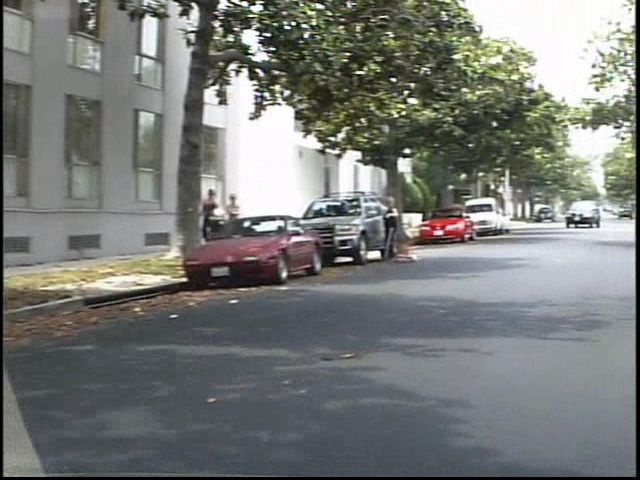person: (394, 193, 424, 269), (211, 184, 239, 253), (236, 189, 259, 250)
